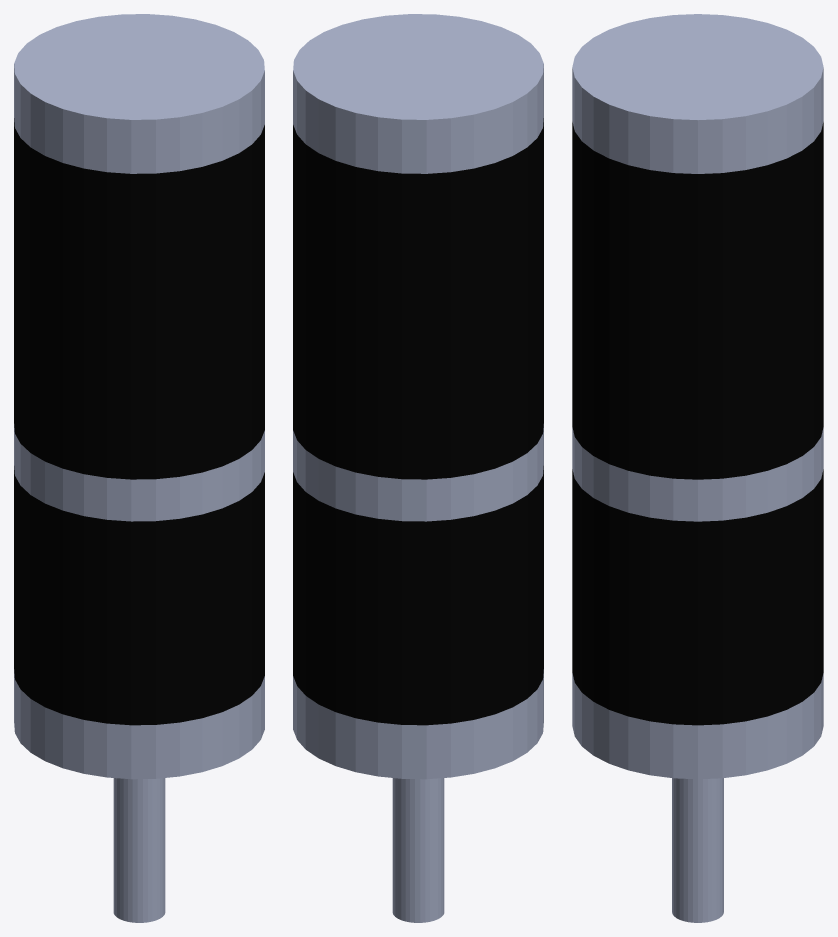
The model's file is ZGX38REE.dae.
3 views of the same model, side by side, from view 1: azimuth 30°, elevation 25°; view 2: azimuth 150°, elevation 25°; view 3: azimuth 270°, elevation 25° (orthographic).
Parts seen in each view (by area): view 1: motor; view 2: motor; view 3: motor.
Boxes of the visible parts, x1,y1,x2,y2 form: motor: [14, 14, 264, 922]; motor: [293, 14, 543, 922]; motor: [572, 14, 823, 922].
Bounding box in the file's own units: 0.038 × 0.038 × 0.141.
